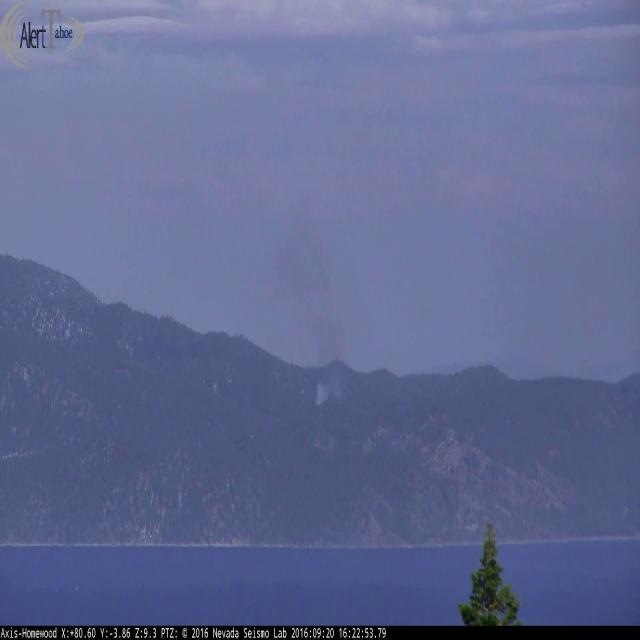smoke: (267, 232, 357, 420)
